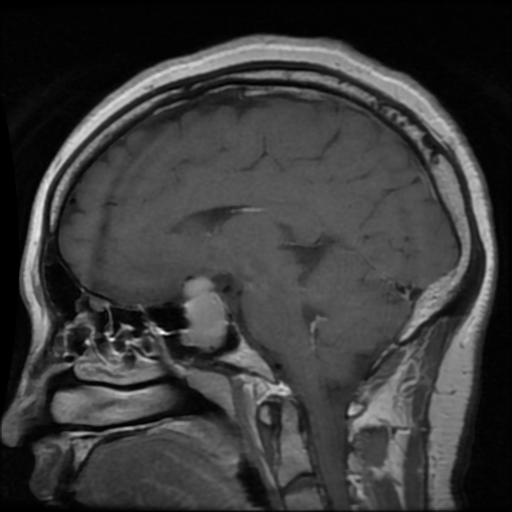Pituirity_tumour: (180, 277, 227, 346)
